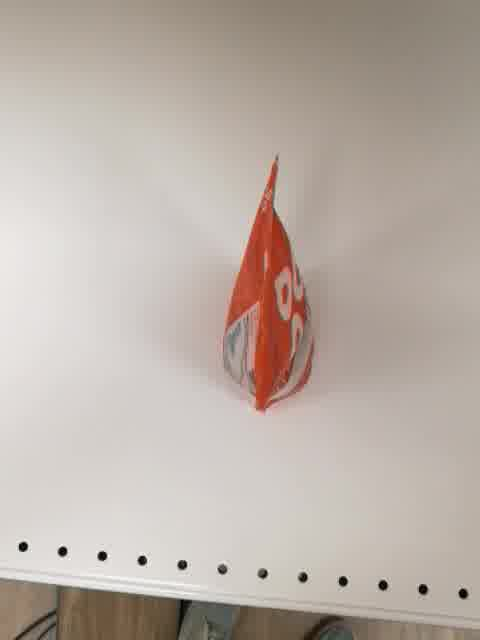whitechia: (216, 152, 319, 415)
